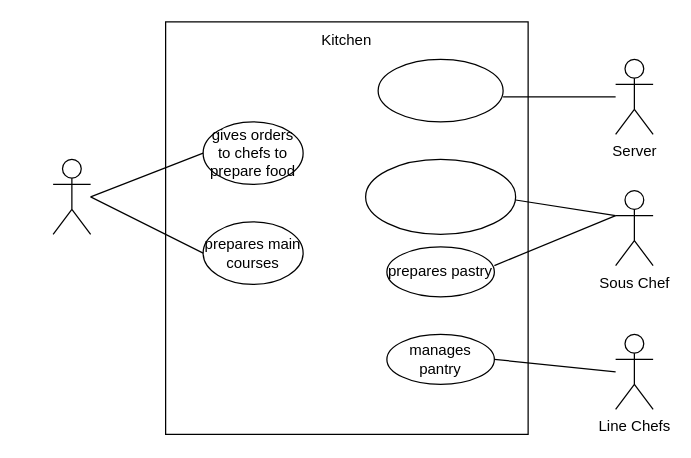
Image size: 691x458. Some labels were removed from this diagram. Here are the shapes that lost their labels. From the top down, the centre of each, then its label:
At [440,90]: "Order from customer printed out via MOBS".
At [71,196]: "Executive Chef".
At [440,196]: "prepares main courses when executive chef is not on duty".
